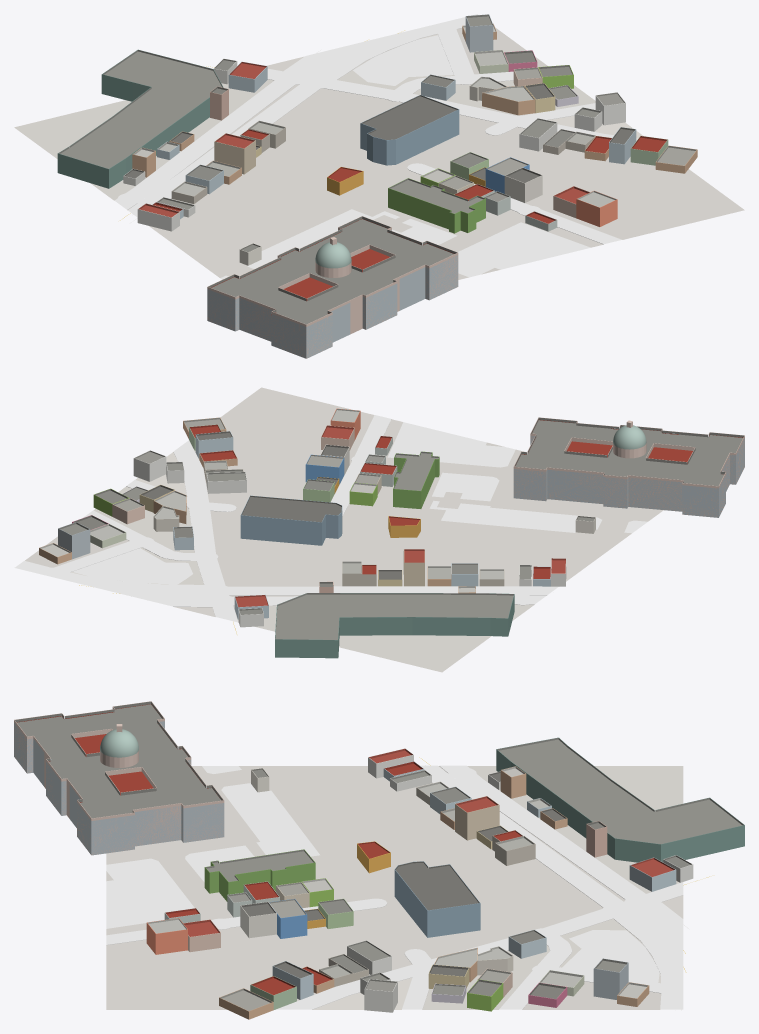
3 views of the same model, one above another, from view 1: azimuth 30°, elevation 25°; view 2: azimuth 150°, elevation 25°; view 3: azimuth 270°, elevation 25° (orthographic). The views are drawn at different scales.
Parts seen in each view (by area): view 1: ground, roofs, walls, sidewalk, grass, stone; view 2: ground, roofs, walls, sidewalk, grass, stone; view 3: ground, roofs, walls, sidewalk, grass, stone.
Part boxes in pixels (x1,y1,x2,y2): ground: (14, 27, 744, 279); roofs: (58, 14, 697, 324); walls: (57, 17, 697, 358); sidewalk: (114, 14, 638, 244); grass: (220, 35, 590, 279); stone: (315, 237, 351, 277); ground: (25, 387, 663, 672); roofs: (39, 408, 744, 640); walls: (39, 411, 744, 658); sidewalk: (15, 415, 558, 622); grass: (72, 422, 647, 584); stone: (613, 420, 646, 458); ground: (106, 766, 683, 1009); roofs: (14, 701, 744, 1011); walls: (14, 707, 744, 1019); sidewalk: (106, 765, 683, 1009); grass: (106, 766, 659, 982); stone: (100, 724, 138, 767).
Size of what is drawn, in the model's own units: 289 by 34.12 by 317.
